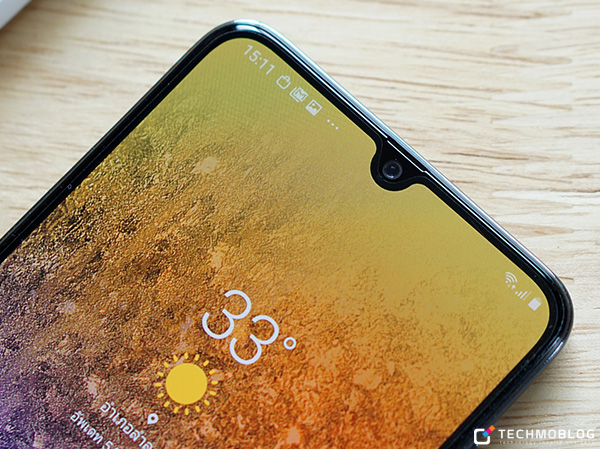Phone: (2, 16, 576, 449)
